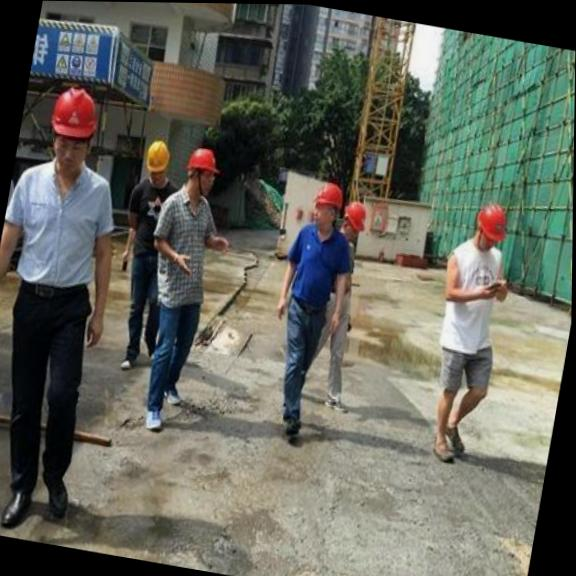no_safety_vest: (0, 151, 122, 306), (140, 181, 223, 312), (429, 237, 514, 361), (278, 219, 357, 319), (114, 172, 175, 271), (0, 163, 21, 271)
